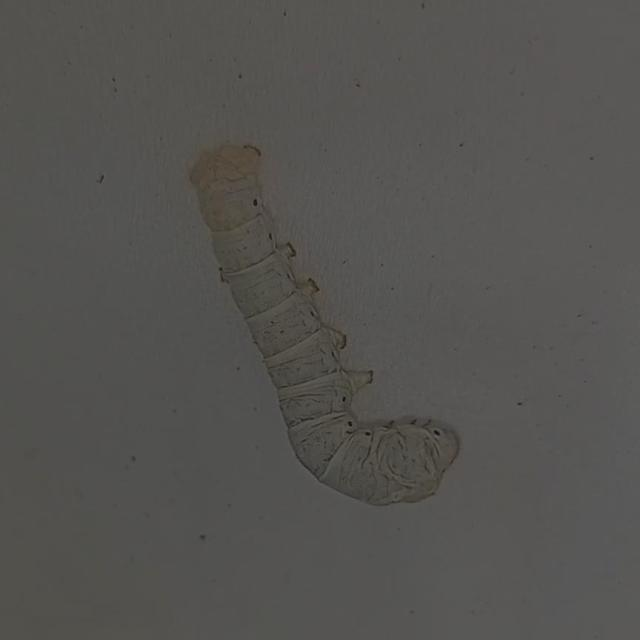Healthy: (174, 126, 486, 528)
